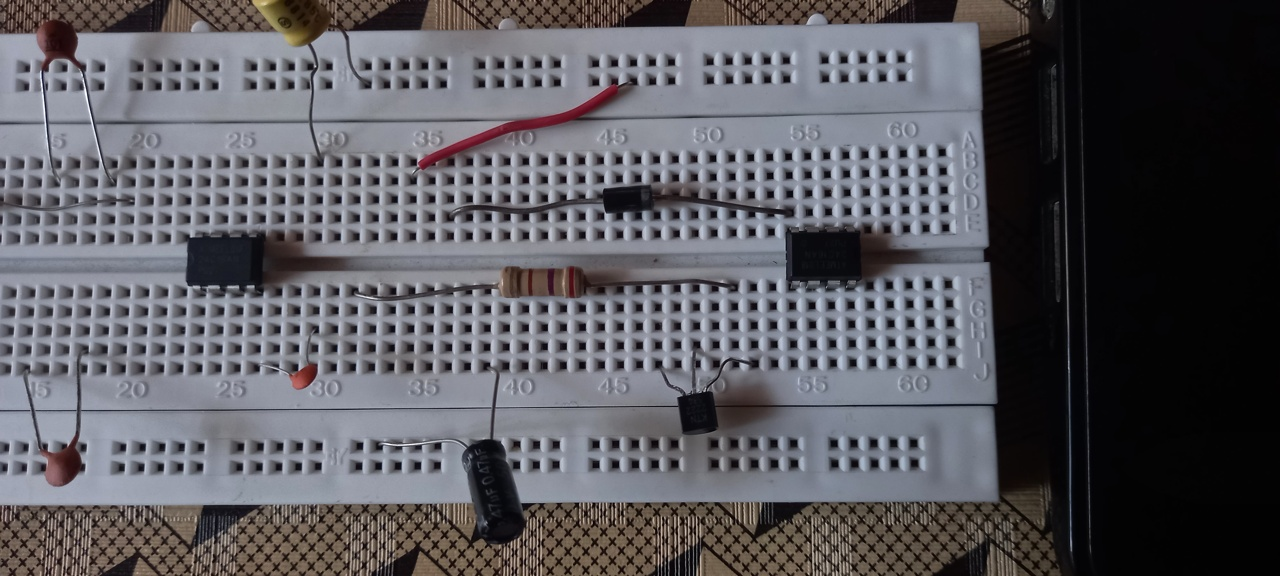capacitor: (457, 442, 527, 541), (248, 1, 332, 50), (36, 18, 81, 65), (40, 448, 84, 489), (291, 357, 321, 393)
resistor: (502, 264, 588, 298)
